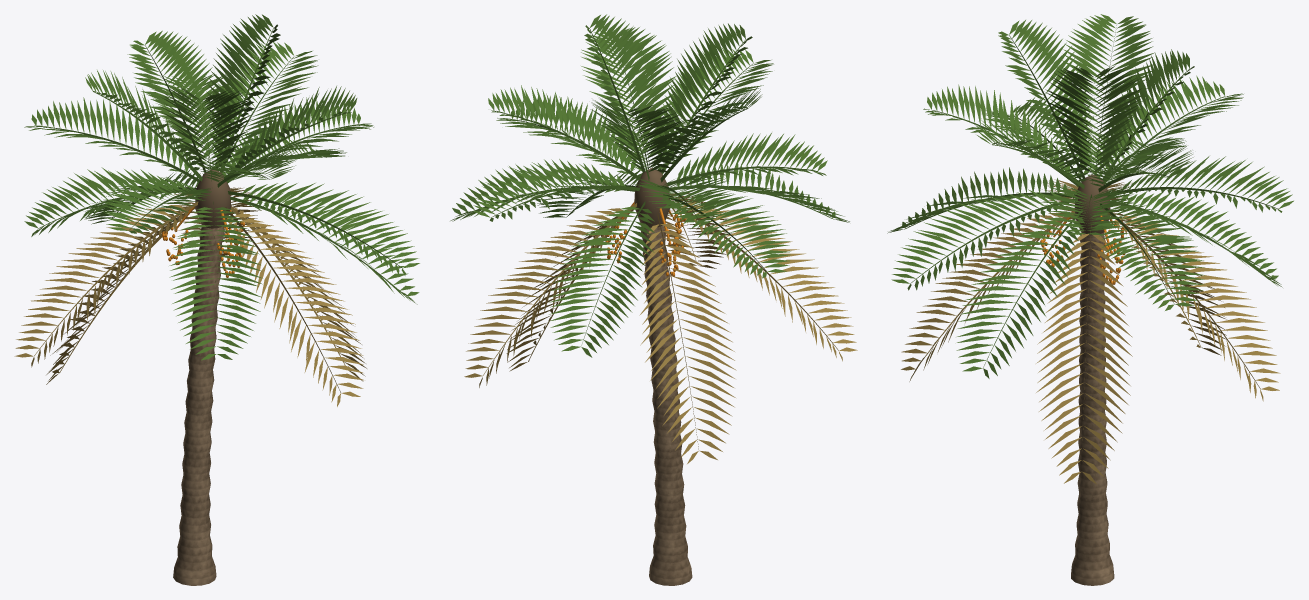
File: palm.glb
The picture shows the model from 3 angles, left to right: view 1: azimuth 30°, elevation 25°; view 2: azimuth 150°, elevation 25°; view 3: azimuth 270°, elevation 25°; orthographic projection.
Visible parts, largest first — view 1: Palm_Fronds, Palm_Trunk, Palm_Dates; view 2: Palm_Fronds, Palm_Trunk, Palm_Dates; view 3: Palm_Fronds, Palm_Trunk, Palm_Dates.
Boxes of the visible parts, x1,y1,x2,y2 form: Palm_Fronds: (14, 14, 419, 406); Palm_Trunk: (173, 169, 231, 585); Palm_Dates: (162, 206, 245, 277); Palm_Fronds: (450, 14, 857, 463); Palm_Trunk: (634, 167, 692, 585); Palm_Dates: (605, 201, 685, 276); Palm_Fronds: (887, 14, 1293, 484); Palm_Trunk: (1071, 174, 1114, 585); Palm_Dates: (1040, 209, 1125, 284).
Bounding box in the file's own units: 8.19 × 11.71 × 7.92.
4 materials, 1 textured.
